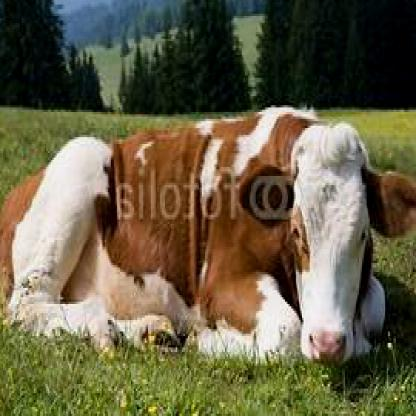cow: (1, 107, 415, 372)
